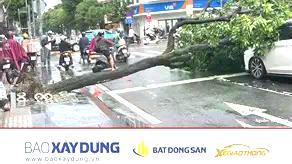ROAD_FLOODING: (0, 54, 291, 131)
